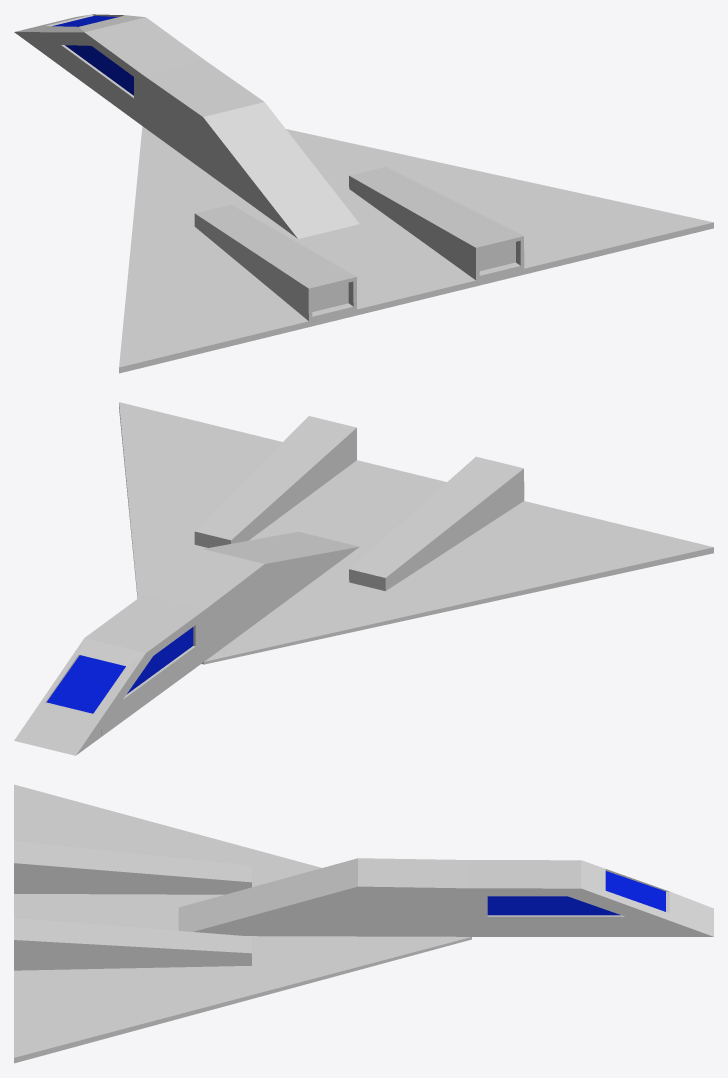
Rendered from AERONAVE 2.fbx.
The picture shows the model from 3 angles, top to bottom: view 1: azimuth 30°, elevation 25°; view 2: azimuth 150°, elevation 25°; view 3: azimuth 270°, elevation 25°; orthographic projection. The views are drawn at different scales.
Visible parts, largest first — view 1: Cube; view 2: Cube; view 3: Cube.
Part boxes in pixels (x1,y1,x2,y2): Cube: (14,14,713,373); Cube: (14,402,713,755); Cube: (14,784,713,1063).
Bounding box in the file's own units: 5788 × 537 × 6262.
